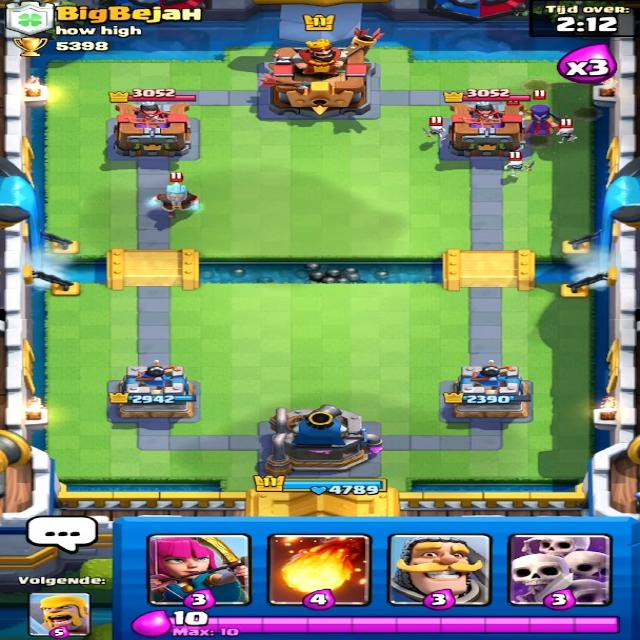Enemy_Ice_Wizard_Troop: (152, 180, 208, 217)
Enemy_Skeleton_Troop: (502, 156, 538, 176), (420, 123, 450, 144), (555, 126, 577, 145)
Enemy_Witch_Troop: (510, 101, 567, 144)
Fireball_Card: (271, 536, 369, 604)
